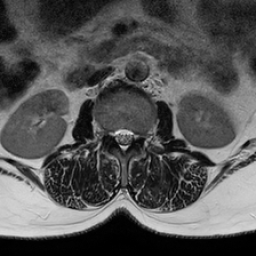CCS_normal: (120, 118, 126, 160)
LFS_stenosis: (134, 122, 142, 147)
LLS_normal: (126, 121, 134, 150)
RFS_stenosis: (104, 121, 112, 146)
RLS_normal: (112, 121, 120, 149)
